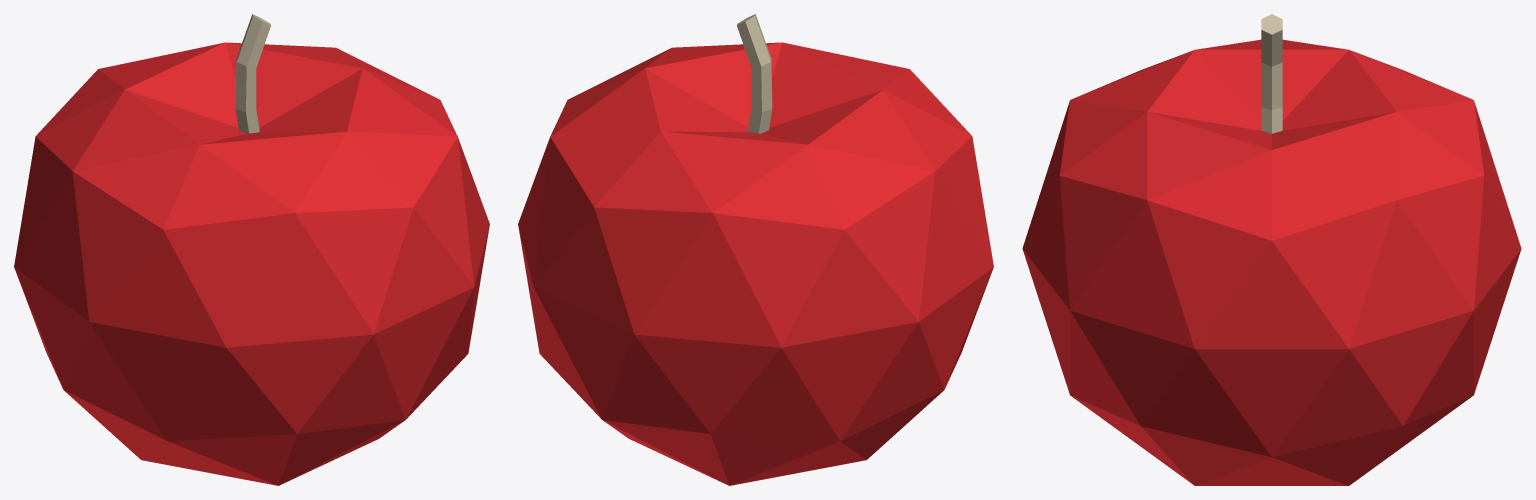
File: Apple.obj
The picture shows the model from 3 angles, left to right: view 1: azimuth 30°, elevation 25°; view 2: azimuth 150°, elevation 25°; view 3: azimuth 270°, elevation 25°; orthographic projection. The views are drawn at different scales.
Parts seen in each view (by area): view 1: GeoSphere, Cylinder001; view 2: GeoSphere, Cylinder001; view 3: GeoSphere, Cylinder001.
Boxes of the visible parts, left/top/right/bottom form: GeoSphere: left=14, top=42, right=489, bottom=485; Cylinder001: left=235, top=14, right=270, bottom=133; GeoSphere: left=518, top=42, right=993, bottom=485; Cylinder001: left=737, top=14, right=772, bottom=133; GeoSphere: left=1022, top=39, right=1521, bottom=485; Cylinder001: left=1261, top=14, right=1282, bottom=133.
Size of the model in its own units: 3.32 by 3.56 by 3.49.
